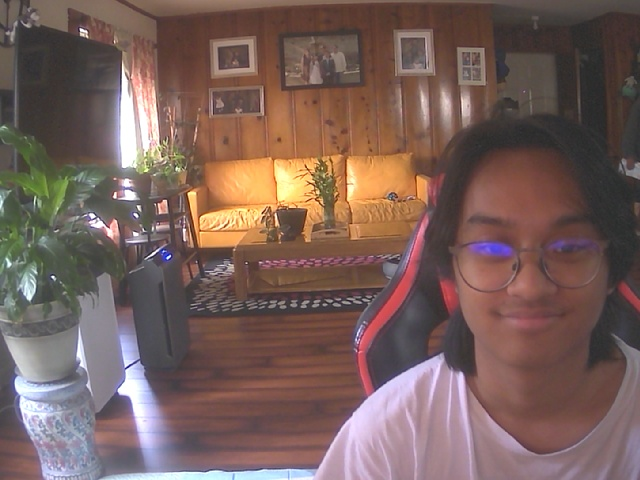happy: (443, 117, 624, 373)
